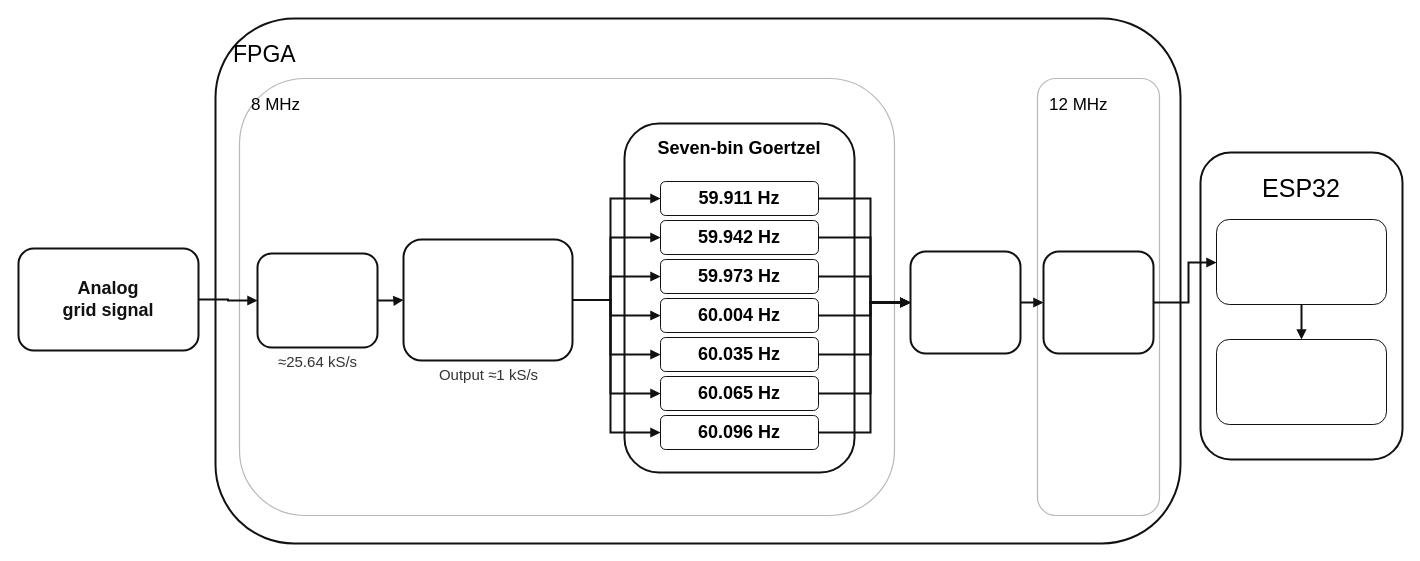
Some shapes in this 1420 by 561 pixel diagram are drawn without their labels. Here are the shapes that lost their labels. From the top down, the centre of each, then its label:
At [1301,261]: "SPI master + DMA".
At [317,300]: "XADC".
At [487,299]: "DC-offset removal + Anti-alias filter".
At [965,302]: "Dual-clock FIFO".
At [1098,302]: "SPI slave".
At [1301,381]: "SD-card logging".
